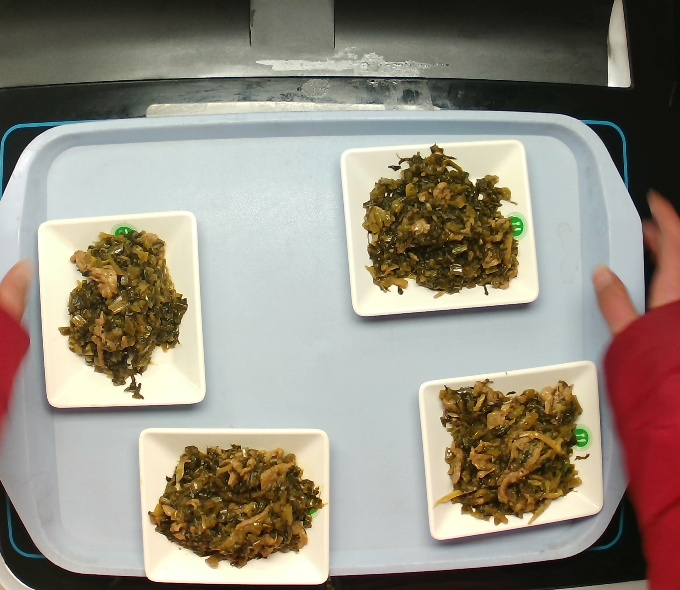wcq-XueCaiRouSi: (428, 368, 593, 530), (354, 146, 525, 299), (58, 226, 193, 397), (146, 438, 323, 566)
